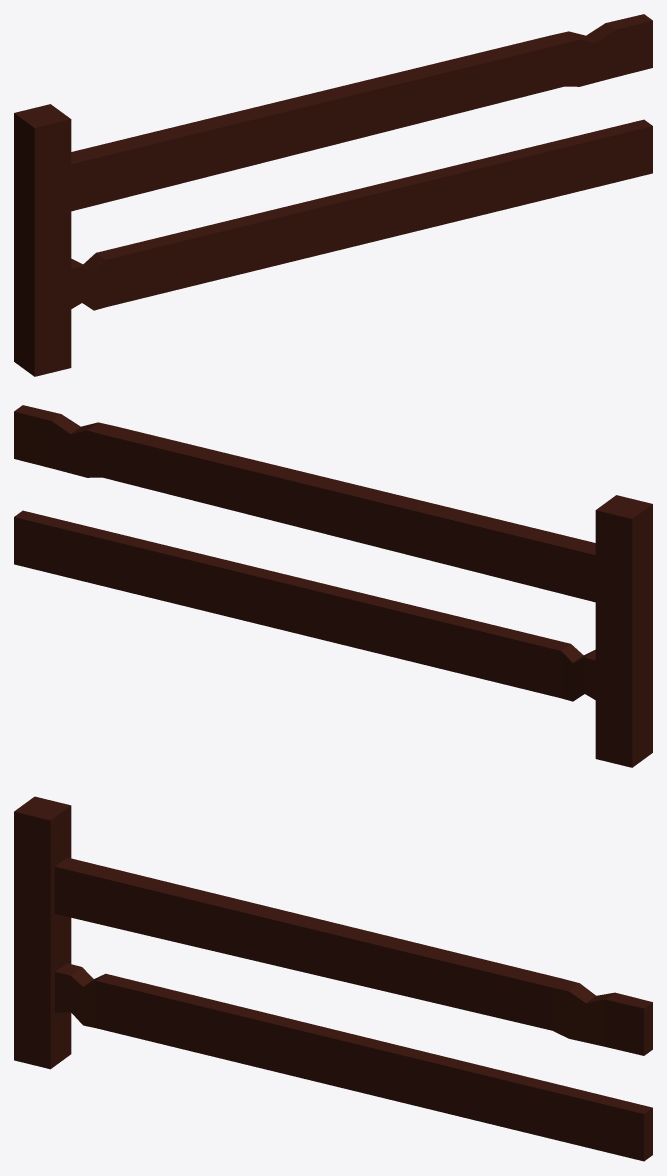
Rendered from Fencefix.fbx.
The picture shows the model from 3 angles, top to bottom: view 1: azimuth 30°, elevation 25°; view 2: azimuth 150°, elevation 25°; view 3: azimuth 330°, elevation 25°; orthographic projection.
Parts seen in each view (by area): view 1: Fence; view 2: Fence; view 3: Fence.
Part boxes in pixels (left/top/right/bottom): Fence: left=14, top=14, right=652, bottom=376; Fence: left=14, top=405, right=652, bottom=767; Fence: left=14, top=796, right=652, bottom=1161.
Size of the model in its own units: 2.88 by 1.1 by 0.1655.
